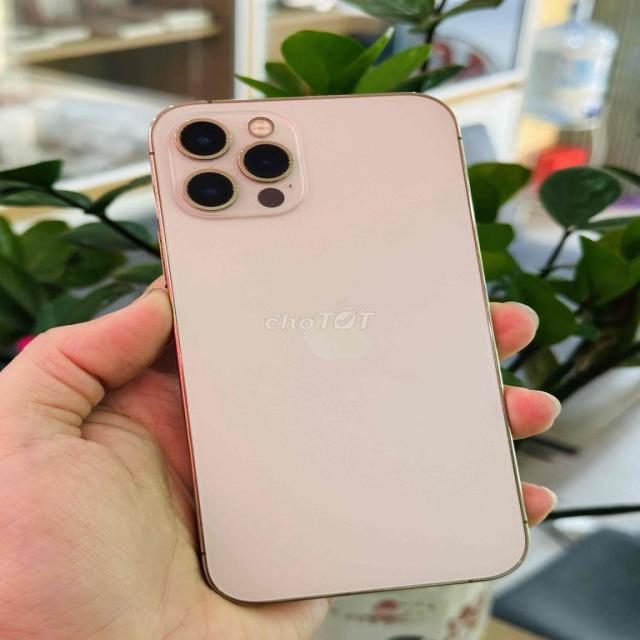gen_12_13: (150, 94, 528, 602)
